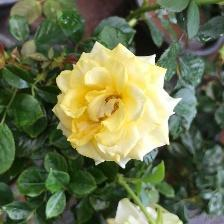rose: (54, 41, 185, 171)
